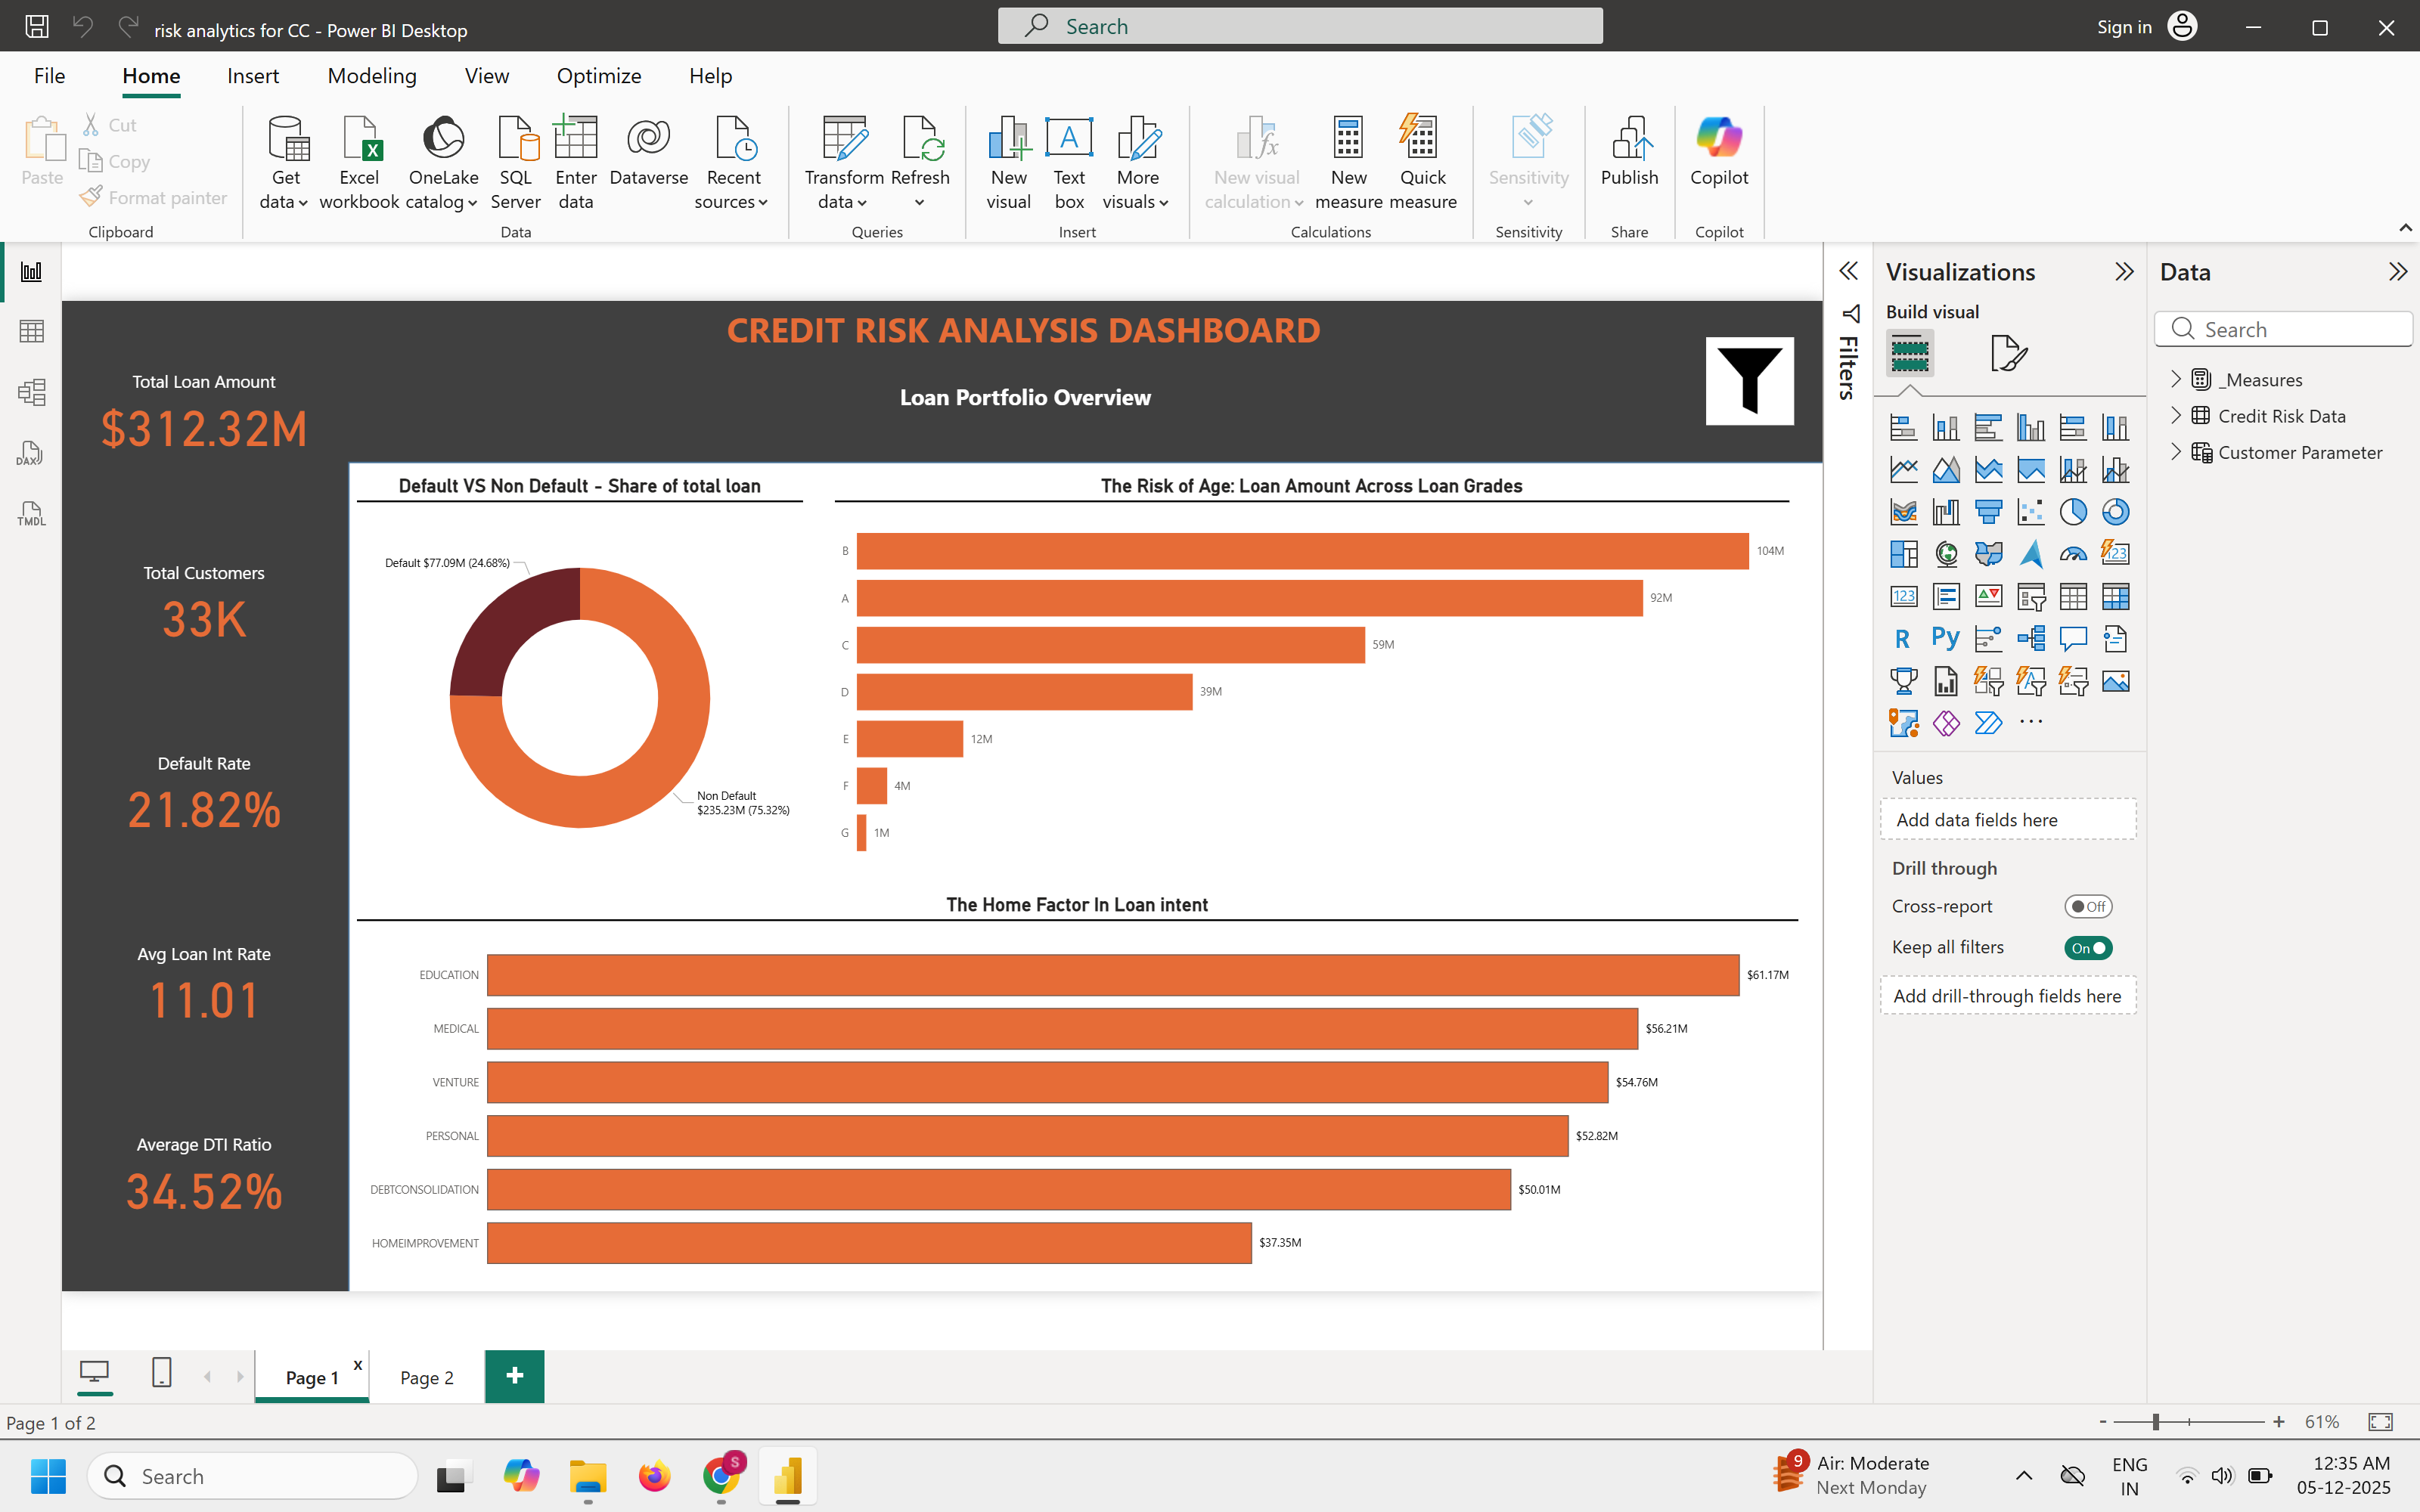

The page's visual inventory and layout, read from the dashboard file:
{"tool":"powerbi","page":{"name":"Page 1","canvas":[1920,1080],"ordinal":0},"visuals":[{"type":"cardVisual","fields":{"Data":["_Measures.Total Loan Amount","_Measures.Total Customers","_Measures.Default Rate","_Measures.Avg Loan Int Rate","_Measures.Average DTI Ratio"]},"box":[16.5,13.2,277.1,1054],"z":0},{"type":"donutChart","title":"Default VS Non Default - Share of total loan","fields":{"Y":["_Measures.Total Loan Amount"],"Category":["Credit Risk Data.Loan Status"]},"box":[321.6,189.7,486.6,456.9],"z":1000},{"type":"clusteredBarChart","title":"The Risk of Age: Loan Amount Across Loan Grades","fields":{"Category":["Credit Risk Data.loan_grade Hierarchy.loan_grade","Credit Risk Data.loan_grade Hierarchy.Age Group"],"Y":["Sum(Credit Risk Data.loan_amnt)"]},"box":[842.9,189.7,1040.8,437.1],"z":2000},{"type":"clusteredBarChart","title":"The Home Factor In Loan intent ","fields":{"Y":["_Measures.Total Loan Amount"],"Category":["Credit Risk Data.loan_intent Hierarchy.loan_intent","Credit Risk Data.loan_intent Hierarchy.person_home_ownership"]},"box":[321.6,646.6,1572,433.8],"z":3000},{"type":"textbox","box":[310.1,0,1477.9,155.1],"z":5000},{"type":"image","box":[1788,35,106,106],"z":8000}]}

Visuals, with their boxes on the page's 1920x1080 design canvas (x1, y1, x2, y2). These are canvas units, not pixel positions in the 2420x1512 screenshot, which may show the page scaled, cropped or inside an application window:
cardVisual - _Measures.Total Loan Amount x _Measures.Total Customers: pyautogui.locateOnScreen(16, 13, 294, 1067)
"Default VS Non Default - Share of total loan" donutChart: pyautogui.locateOnScreen(322, 190, 808, 647)
"The Risk of Age: Loan Amount Across Loan Grades" clusteredBarChart: pyautogui.locateOnScreen(843, 190, 1884, 627)
"The Home Factor In Loan intent " clusteredBarChart: pyautogui.locateOnScreen(322, 647, 1894, 1080)
textbox: pyautogui.locateOnScreen(310, 0, 1788, 155)
image: pyautogui.locateOnScreen(1788, 35, 1894, 141)
